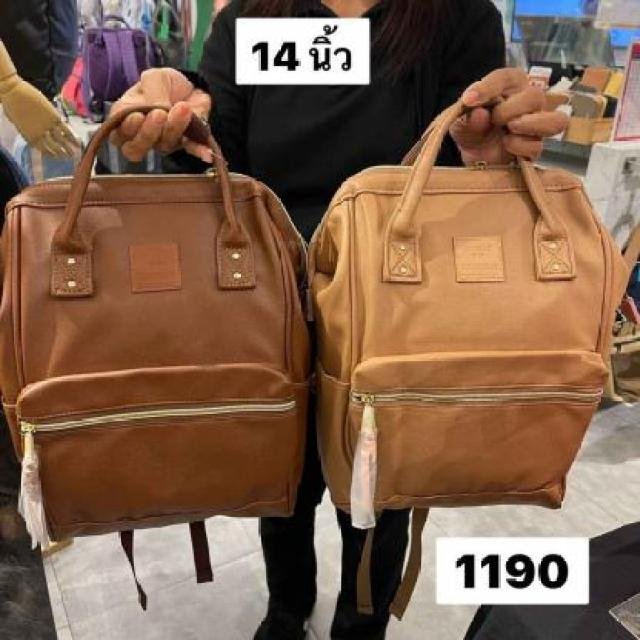Bag: (0, 64, 323, 558), (304, 76, 640, 542)
